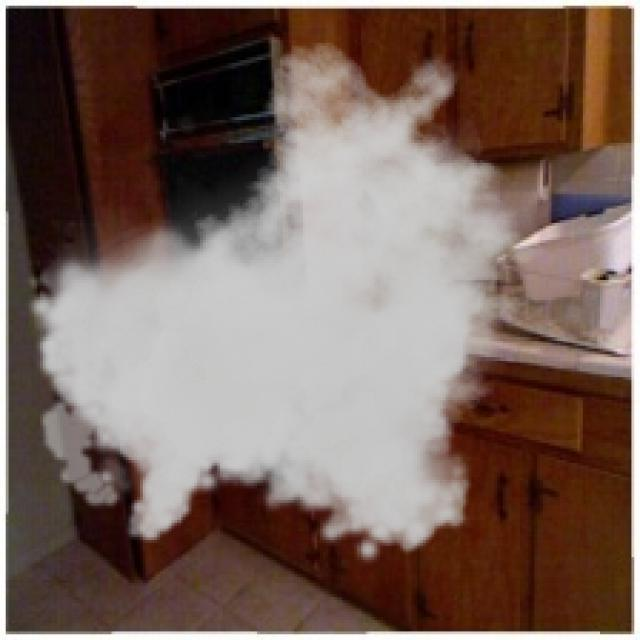Smoke: (26, 40, 563, 566)
